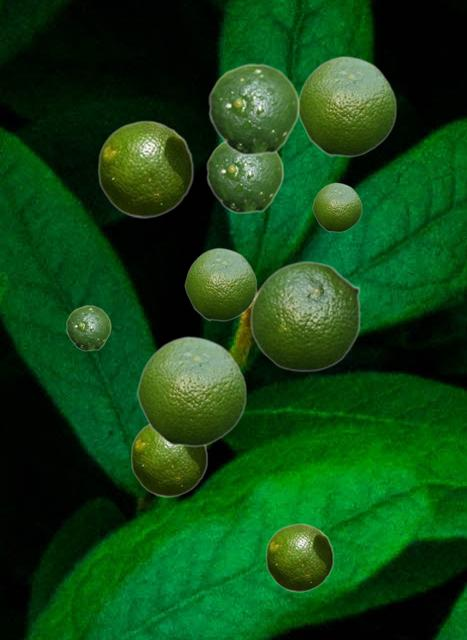calamansi: (136, 335, 246, 446), (250, 261, 360, 371), (299, 55, 396, 156), (97, 120, 193, 217), (208, 63, 299, 155), (130, 424, 207, 496), (206, 141, 283, 213), (184, 247, 256, 320), (265, 523, 333, 591), (312, 182, 361, 231), (66, 305, 110, 350)
